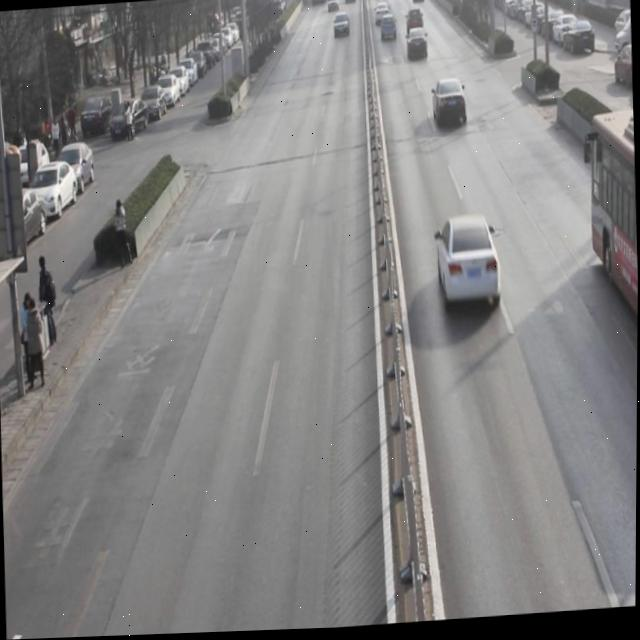car: (435, 214, 503, 319), (431, 77, 467, 133), (405, 27, 431, 67), (378, 16, 398, 47)
van: (586, 110, 639, 382)
